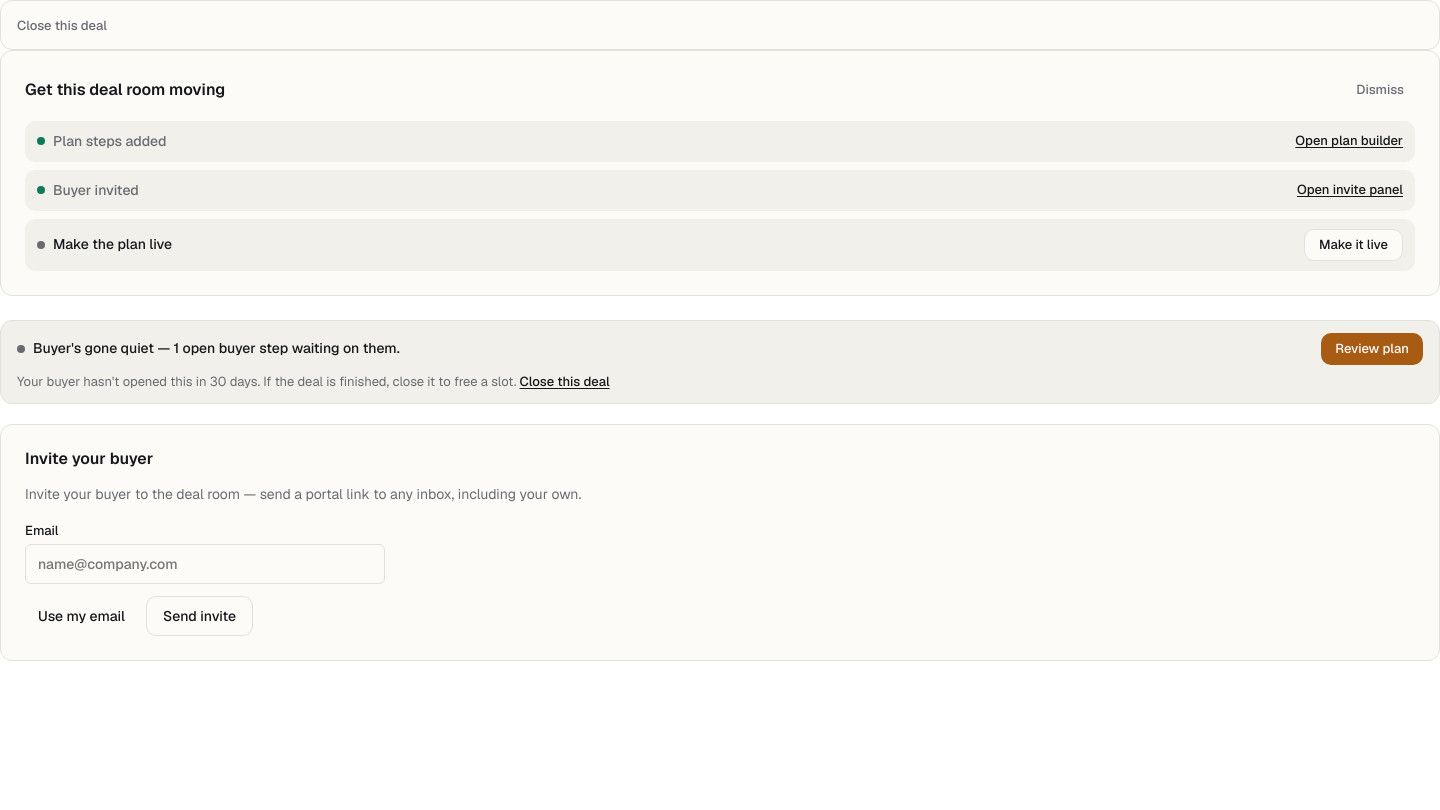
Workspace dashboard — the invite flip never doubles the Signal › keeps the flip plain when the stall alert's CTA is showing, and stays at one Signal total
The width and height of the screenshot is (1440, 810).
Type "ae@getbrava.tech" into the field labelled "Email". click: (205, 564)
box: left=25, top=544, right=385, bottom=584
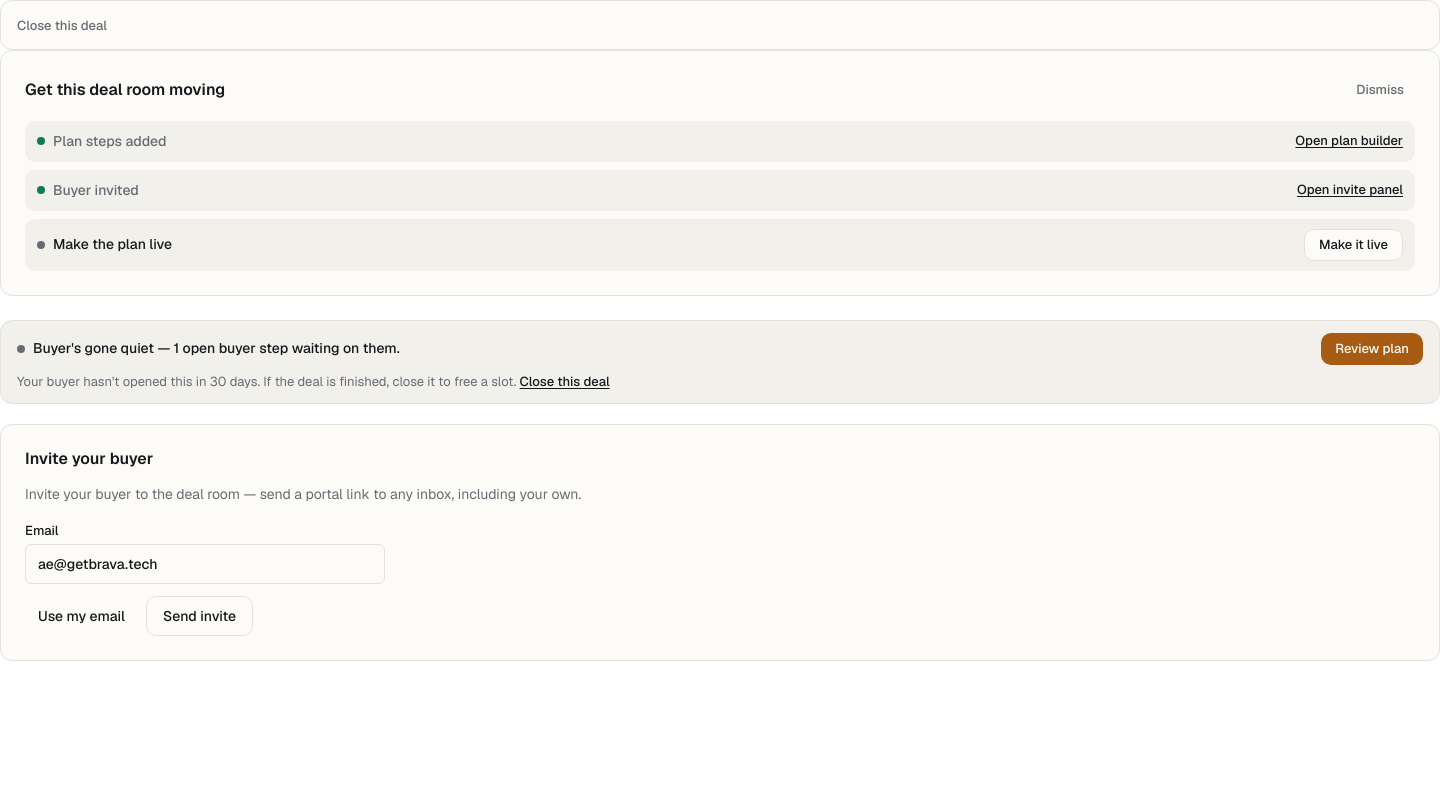
Click the button "Send invite". click: (199, 616)
box: left=146, top=596, right=253, bottom=636
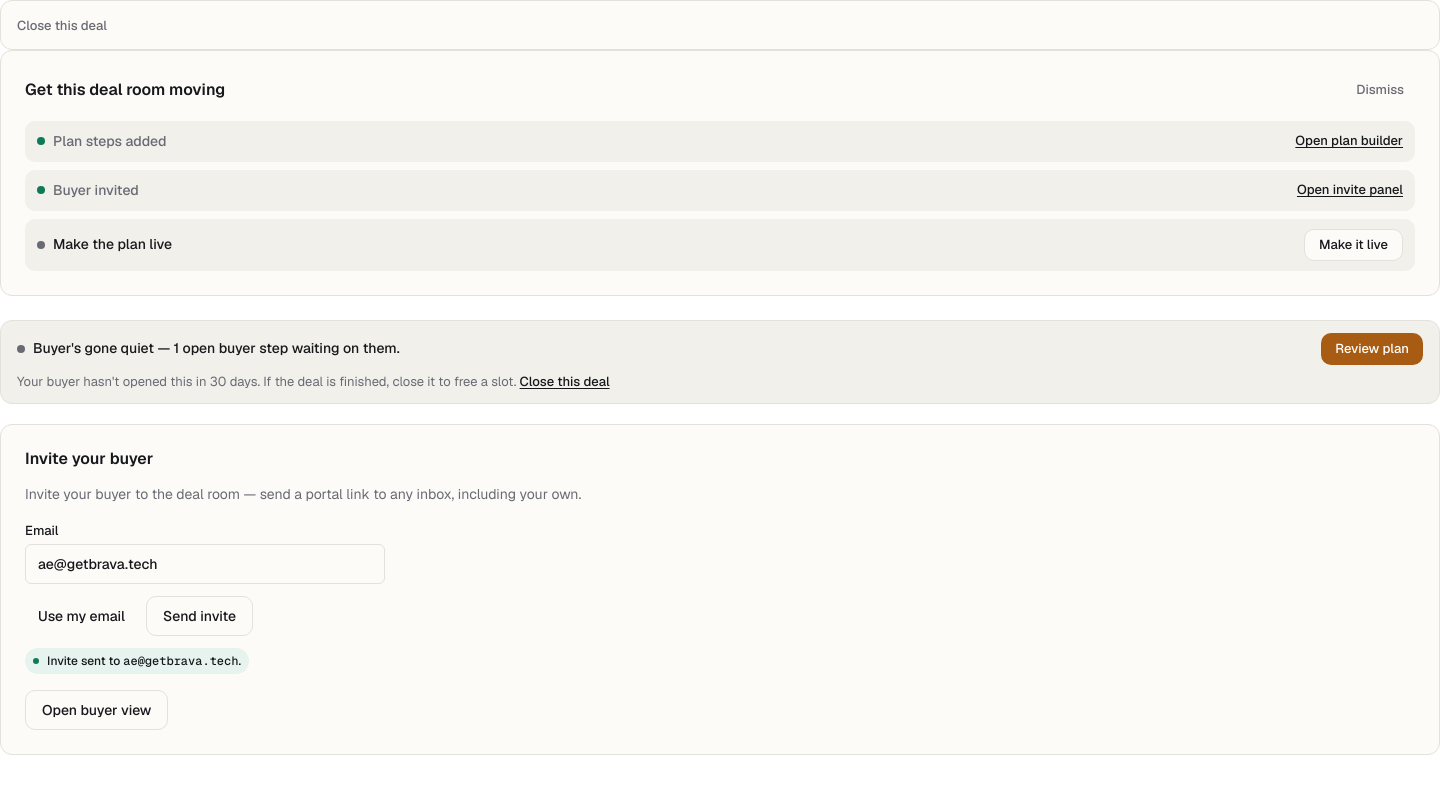
Expected: the button "Open buyer view" is shown, left=25, top=690, right=168, bottom=730
